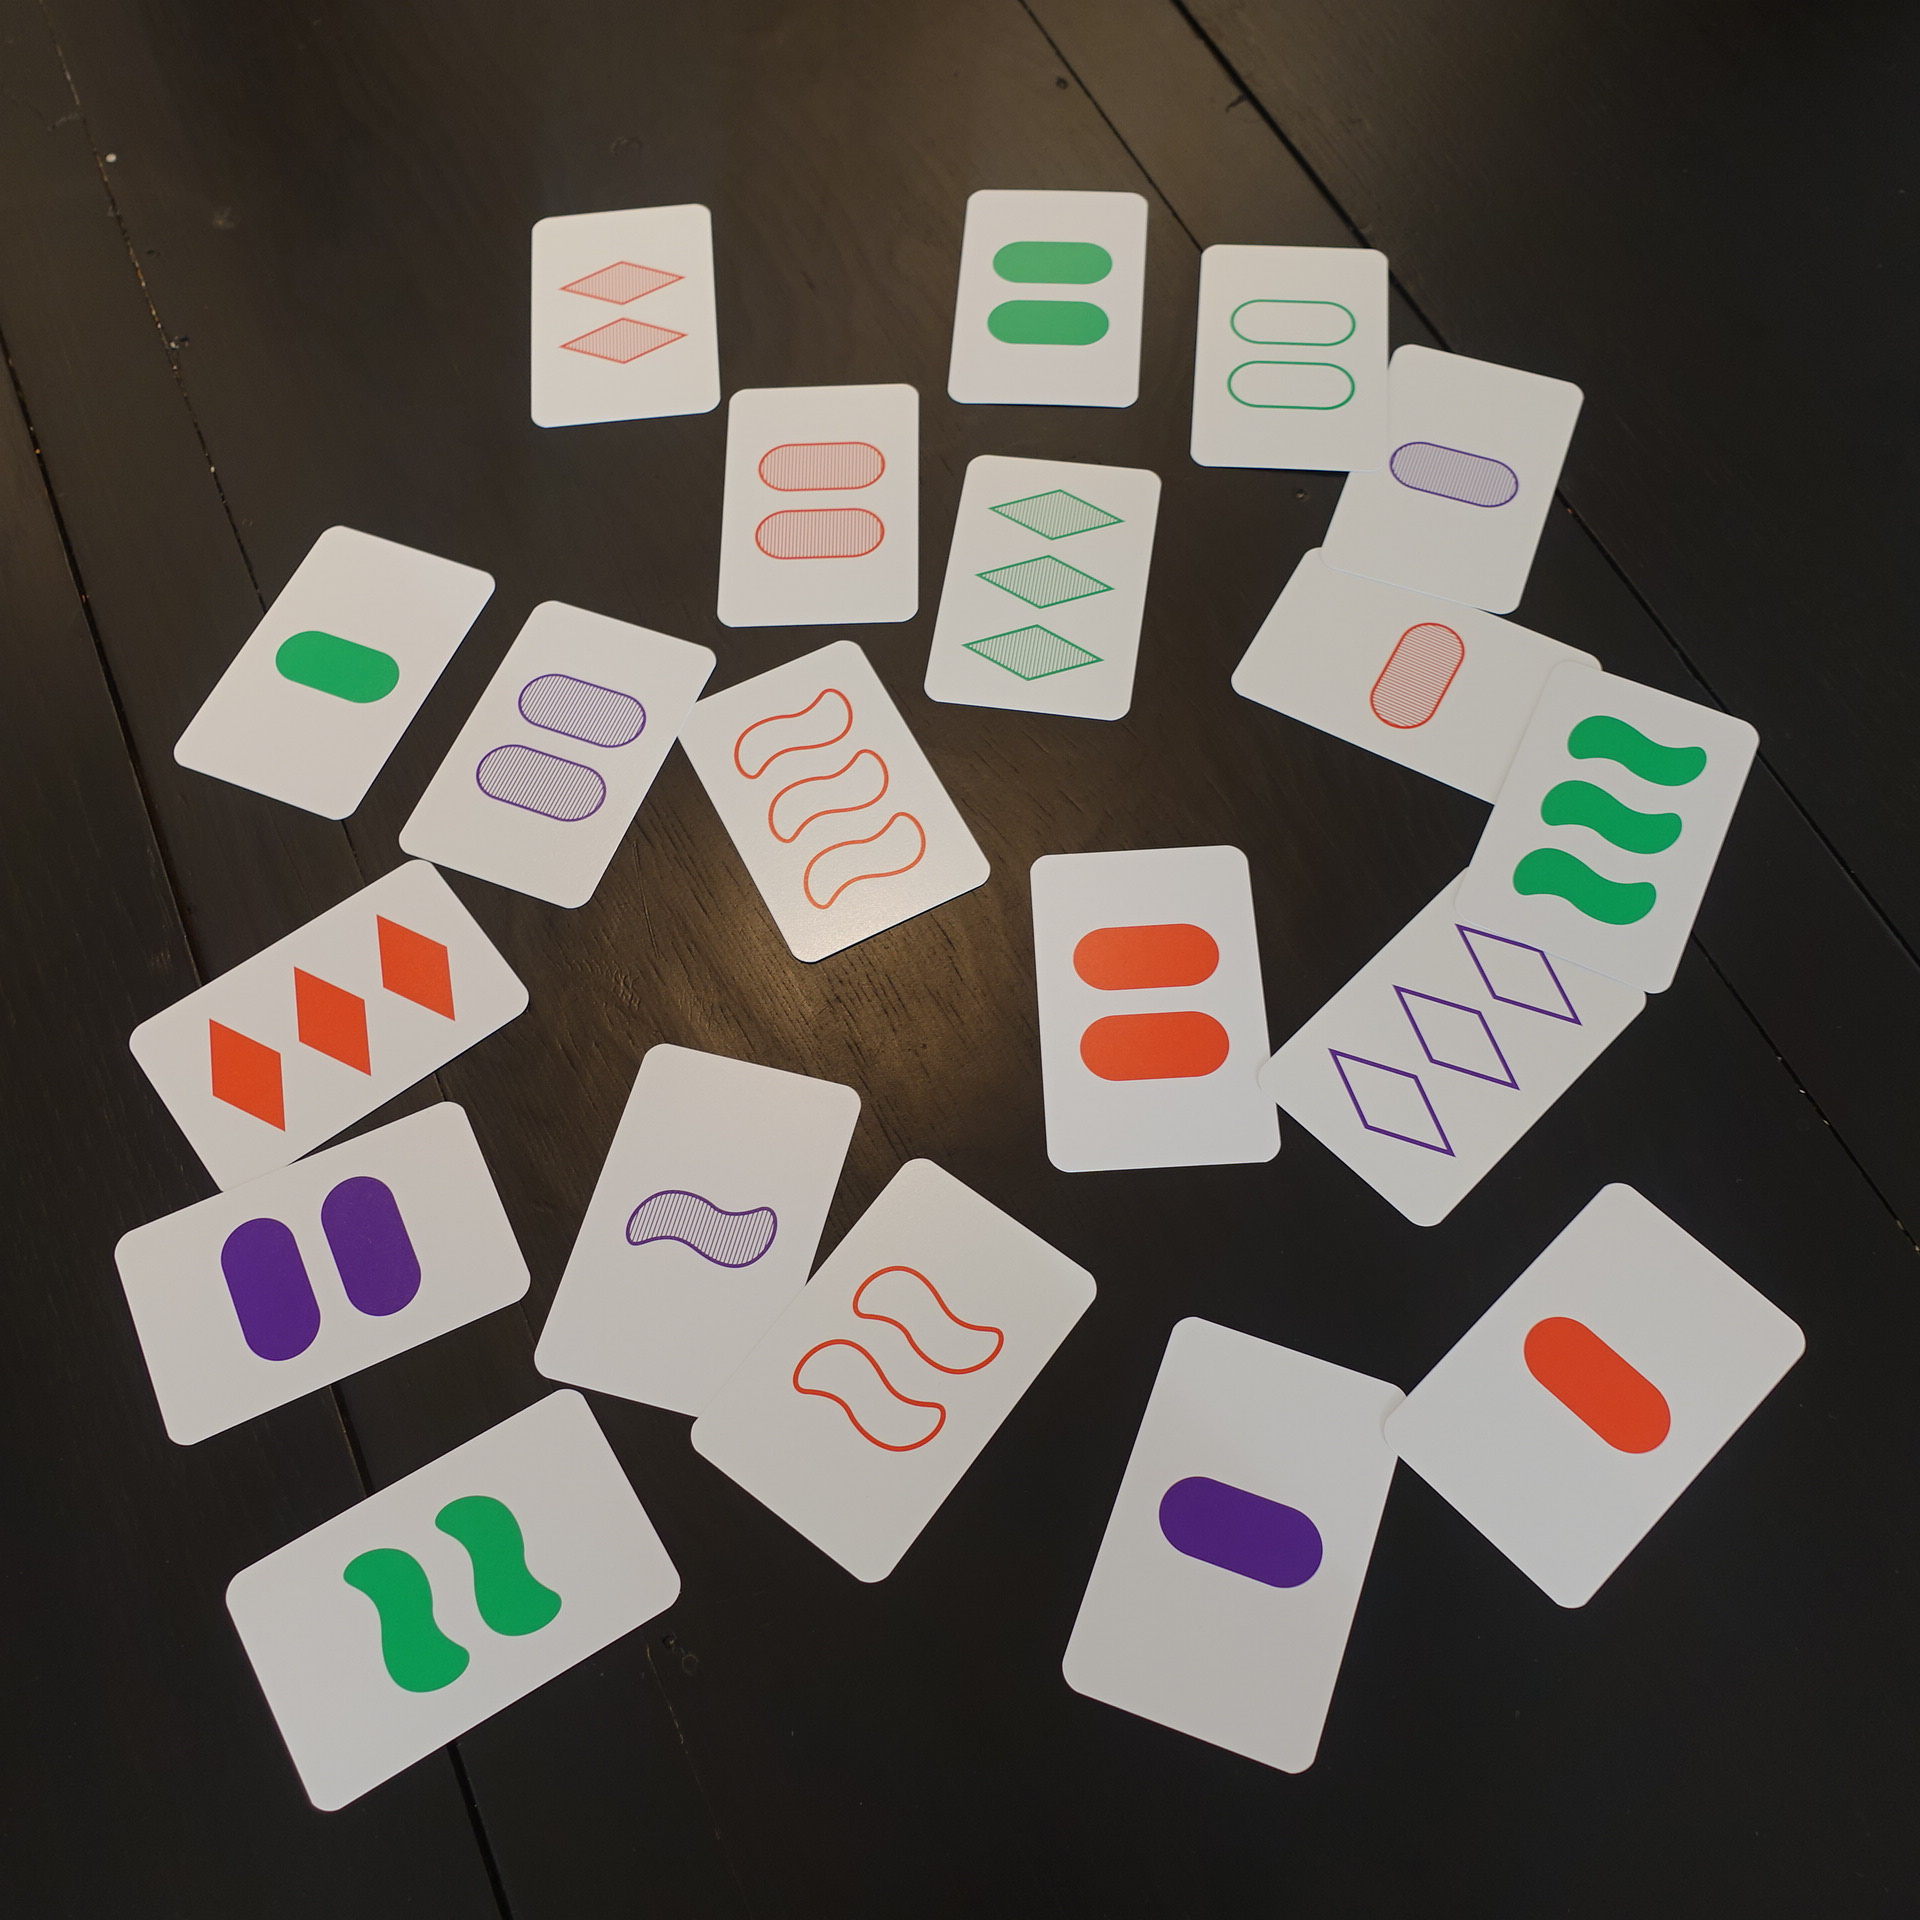c-1-f-d-g: (213, 1378, 691, 1816), (1368, 1173, 1813, 1616), (679, 1146, 1104, 1595), (1055, 1308, 1417, 1785), (100, 1094, 540, 1456), (1245, 844, 1656, 1227), (125, 847, 542, 1203), (531, 1029, 876, 1435), (1452, 652, 1765, 1006), (390, 591, 723, 920), (673, 635, 999, 971), (1224, 538, 1609, 818), (162, 519, 505, 832), (1016, 839, 1292, 1187), (1317, 336, 1595, 624), (914, 440, 1169, 731), (703, 373, 930, 636), (1180, 234, 1401, 480), (513, 193, 731, 434), (941, 179, 1155, 418)
